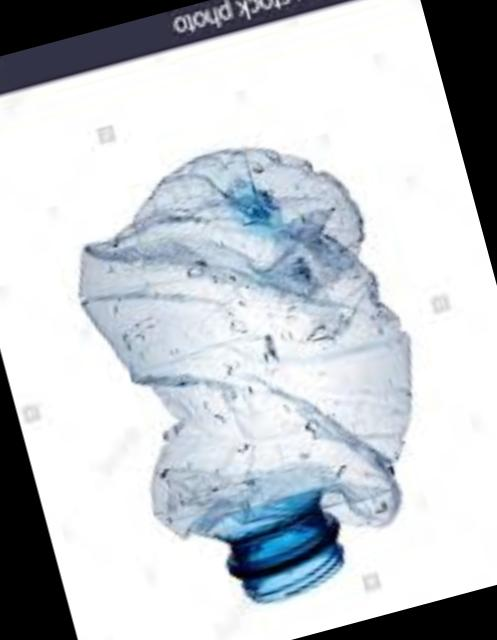plastic: (84, 152, 413, 604)
